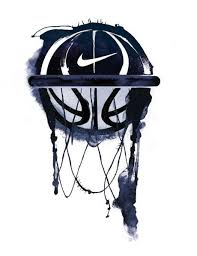nike: (68, 45, 119, 70)
